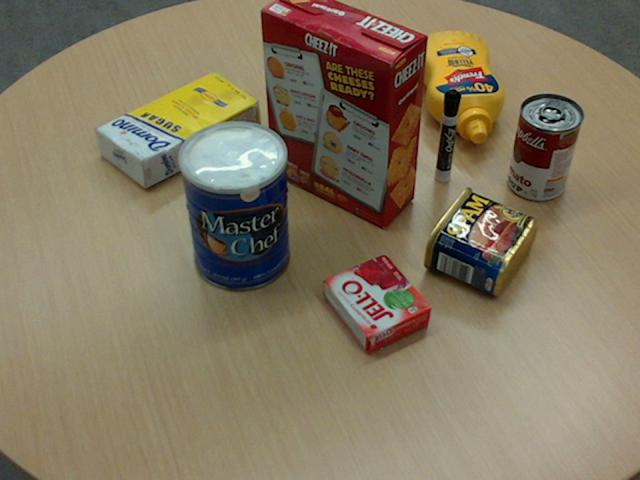cracker_box: (260, 0, 426, 227)
gelatin_box: (323, 253, 431, 352)
large_marker: (434, 90, 460, 181)
master_chef_can: (178, 120, 289, 291)
mug: (309, 33, 386, 125)
mustard_bottle: (412, 31, 504, 143)
potted_meat_can: (422, 185, 535, 295)
sugar_box: (94, 70, 260, 187)
tomato_soup_can: (508, 93, 582, 200)
tuna_fish_can: (342, 23, 405, 78)
